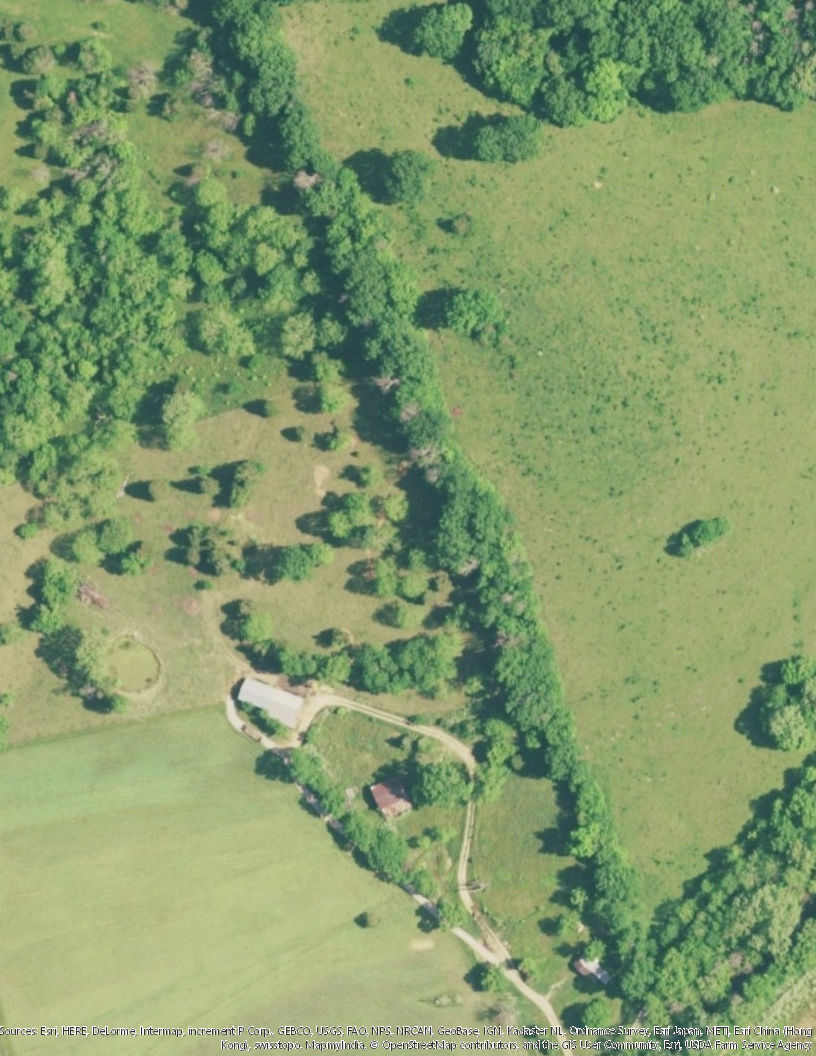cafo: (236, 674, 306, 727)
